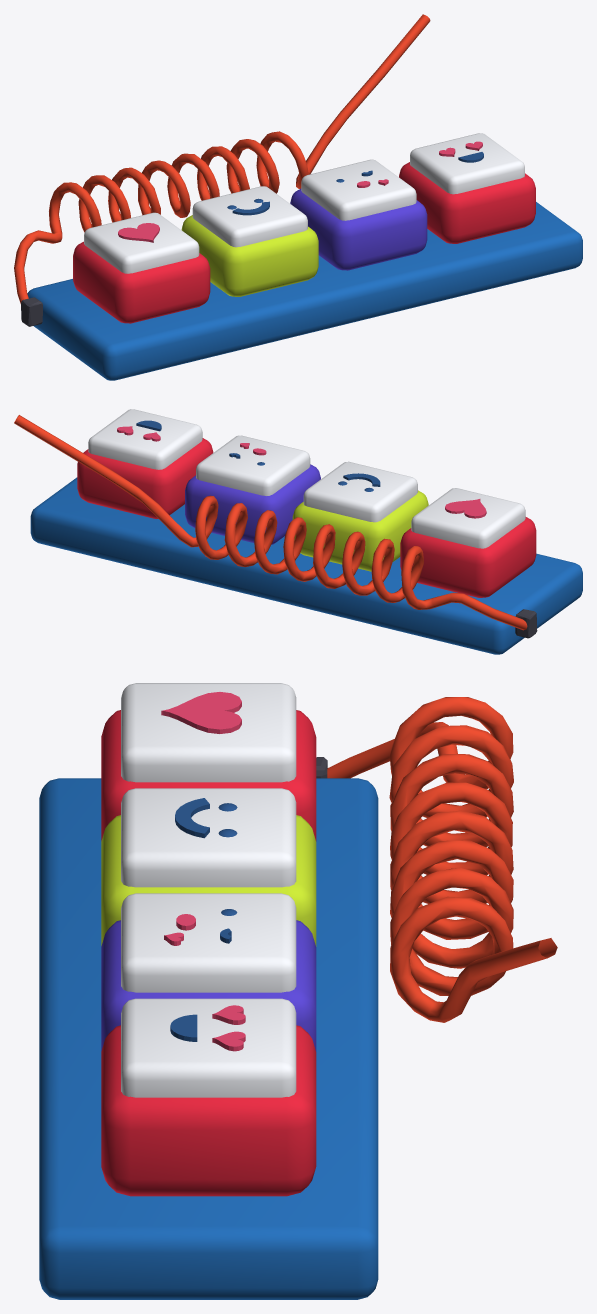
The model's file is emoji_keypad.glb.
3 renders of one model, top to bottom at view 1: azimuth 30°, elevation 25°; view 2: azimuth 150°, elevation 25°; view 3: azimuth 270°, elevation 25°, orthographic. The views are drawn at different scales.
Visible parts, largest first — view 1: Keypad_Base, Cable_Red, Key_Heart, Key_Kiss, Key_Smile, Key_HeartEyes; view 2: Keypad_Base, Cable_Red, Key_Heart, Key_HeartEyes, Key_Kiss, Key_Smile; view 3: Keypad_Base, Key_HeartEyes, Cable_Red, Key_Smile, Key_Heart, Key_Kiss.
Part boxes in pixels (bbox=[...]): Keypad_Base: bbox=[27, 202, 582, 380]; Cable_Red: bbox=[14, 14, 430, 326]; Key_Heart: bbox=[73, 212, 210, 323]; Key_Kiss: bbox=[290, 159, 427, 270]; Key_Smile: bbox=[181, 186, 318, 296]; Key_HeartEyes: bbox=[399, 133, 535, 243]; Keypad_Base: bbox=[30, 477, 582, 654]; Cable_Red: bbox=[14, 415, 537, 638]; Key_Heart: bbox=[400, 488, 536, 597]; Key_HeartEyes: bbox=[77, 409, 213, 518]; Key_Kiss: bbox=[185, 435, 320, 544]; Key_Smile: bbox=[292, 461, 428, 571]; Keypad_Base: bbox=[39, 778, 378, 1299]; Key_HeartEyes: bbox=[101, 998, 316, 1196]; Cable_Red: bbox=[316, 697, 557, 1022]; Key_Smile: bbox=[101, 788, 316, 946]; Key_Heart: bbox=[101, 683, 316, 841]; Key_Kiss: bbox=[101, 893, 316, 1051].
Size of the model in its own units: 10 by 3.27 by 4.59.
